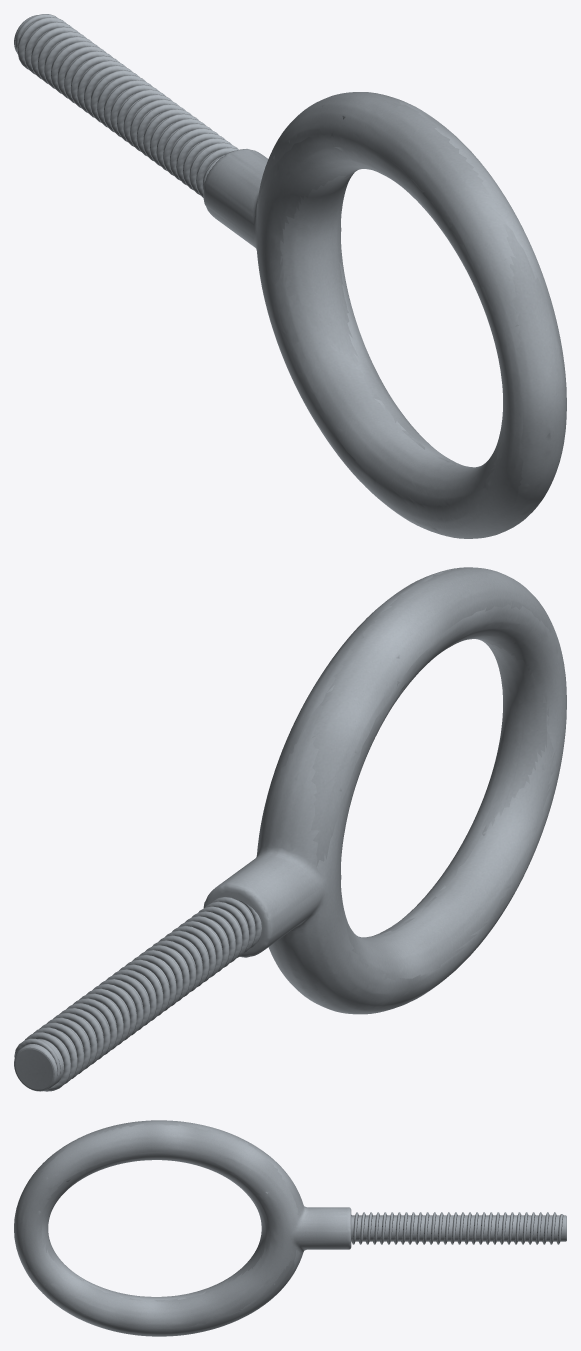
Rendered from Hook_Eye_Only.fbx.
The picture shows the model from 3 angles, top to bottom: view 1: azimuth 30°, elevation 25°; view 2: azimuth 150°, elevation 25°; view 3: azimuth 270°, elevation 25°; orthographic projection. The views are drawn at different scales.
Parts seen in each view (by area): view 1: Anchor_Eye_Only; view 2: Anchor_Eye_Only; view 3: Anchor_Eye_Only.
Boxes of the visible parts, x1=… form: Anchor_Eye_Only: x1=14, y1=14, x2=566, y2=538; Anchor_Eye_Only: x1=14, y1=567, x2=566, y2=1091; Anchor_Eye_Only: x1=14, y1=1120, x2=566, y2=1336.
Bounding box in the file's own units: 3.73 × 19.26 × 45.4.
1 material, 1 textured.
